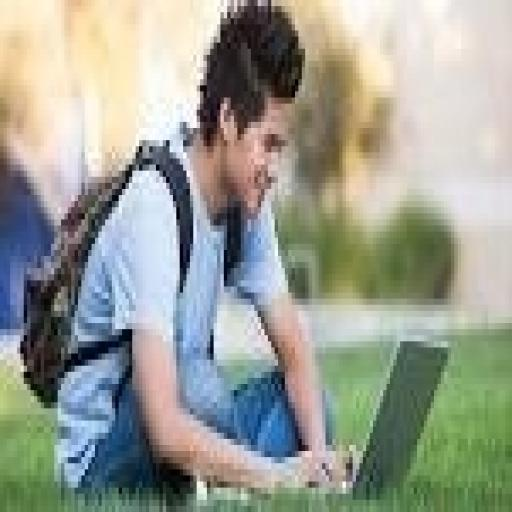using_laptop: (231, 252, 474, 512)
